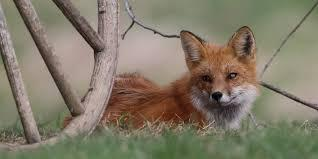fox: (136, 18, 291, 143)
